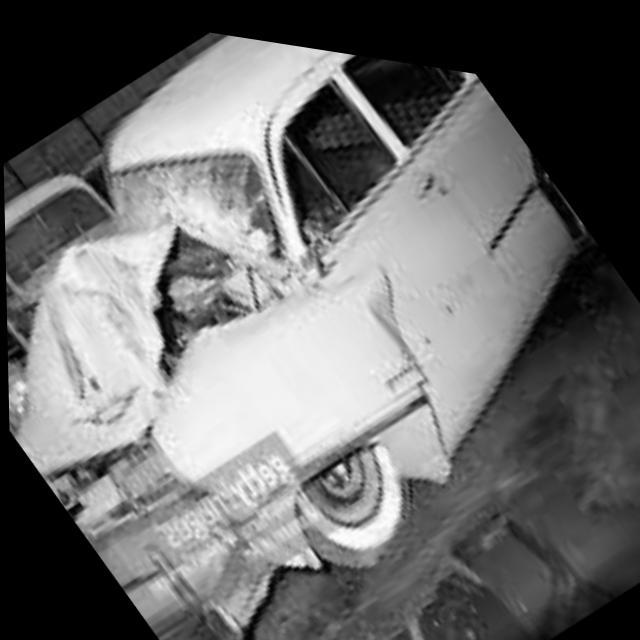crash: (12, 135, 425, 634)
